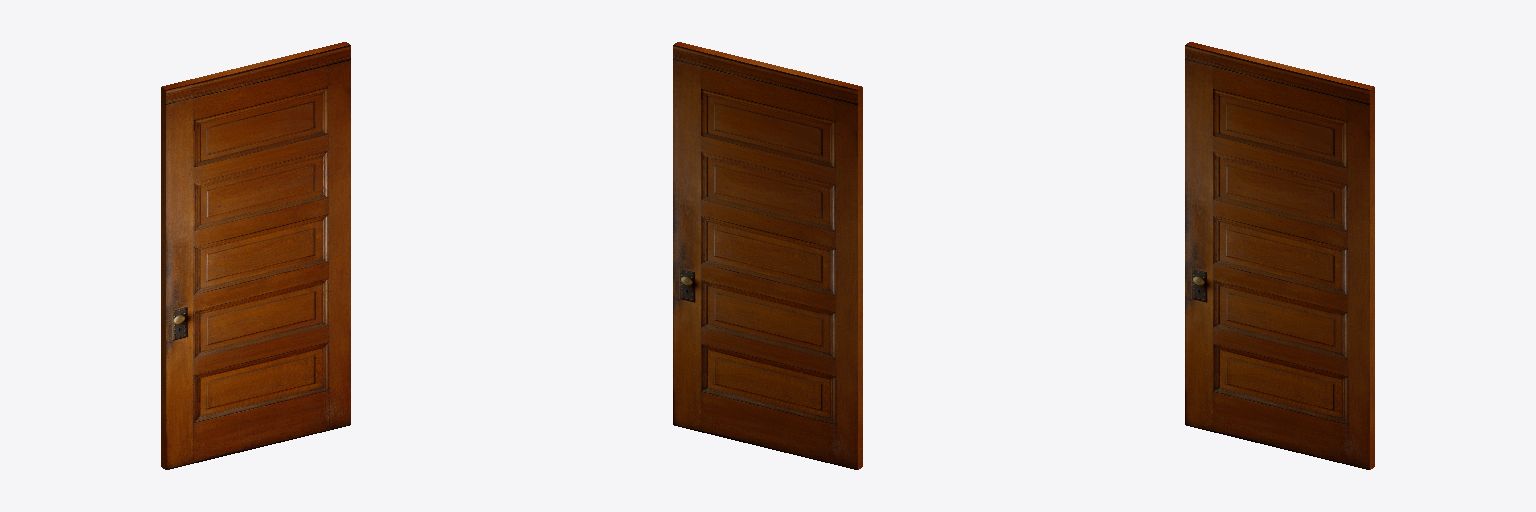
3 renders of one model, left to right at view 1: azimuth 30°, elevation 25°; view 2: azimuth 150°, elevation 25°; view 3: azimuth 330°, elevation 25°, orthographic.
Visible parts, largest first — view 1: InteriorDoor; view 2: InteriorDoor; view 3: InteriorDoor.
Boxes of the visible parts, x1,y1,x2,y2 form: InteriorDoor: [161, 42, 350, 469]; InteriorDoor: [673, 42, 862, 469]; InteriorDoor: [1185, 42, 1374, 469].
Bounding box in the file's own units: 115 × 226 × 5.01.
Materials: 1 (1 with a texture image).